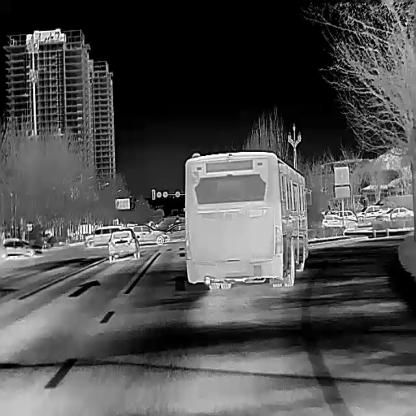bus: (184, 149, 312, 289)
car: (107, 226, 140, 260), (83, 223, 127, 247), (127, 224, 170, 244), (1, 238, 35, 258), (319, 214, 358, 230), (356, 204, 390, 220), (378, 205, 414, 220), (162, 223, 185, 237), (332, 210, 356, 223)
